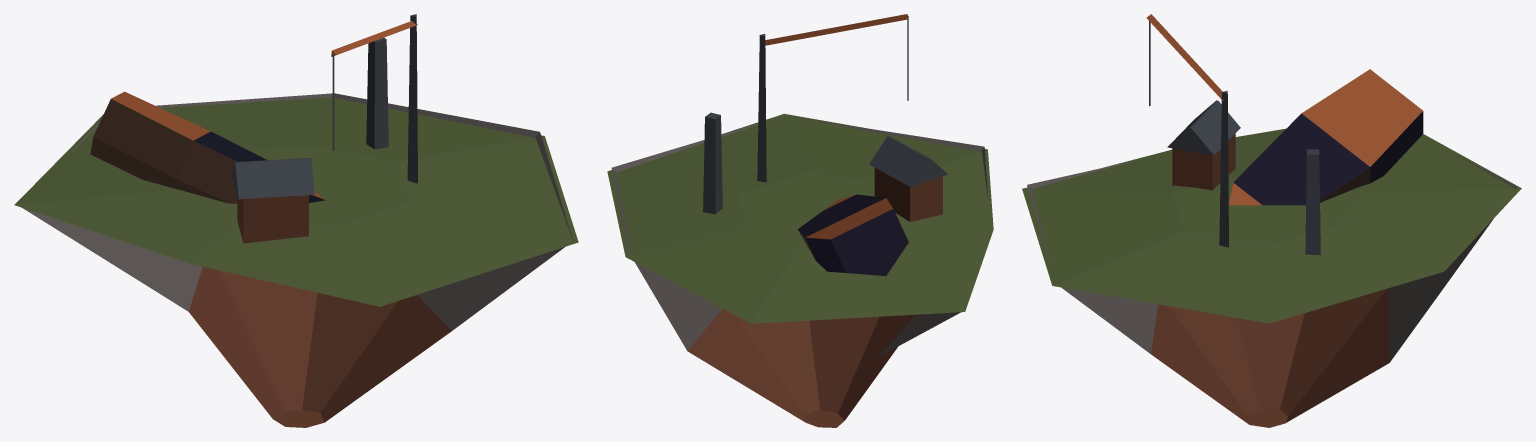
The model's file is SM_Env_ScrapIsle_LQ.glb.
3 views of the same model, side by side, from view 1: azimuth 30°, elevation 25°; view 2: azimuth 150°, elevation 25°; view 3: azimuth 270°, elevation 25° (orthographic). The views are drawn at different scales.
Visible parts, largest first — view 1: SM_Env_ScrapIsle_LQ; view 2: SM_Env_ScrapIsle_LQ; view 3: SM_Env_ScrapIsle_LQ.
Part boxes in pixels (left/top/right/bottom): SM_Env_ScrapIsle_LQ: left=14, top=14, right=578, bottom=427; SM_Env_ScrapIsle_LQ: left=607, top=14, right=993, bottom=427; SM_Env_ScrapIsle_LQ: left=1022, top=14, right=1521, bottom=427.
Bounding box in the file's own units: 22.94 × 19.74 × 22.92.
Materials: 1 (1 with a texture image).
